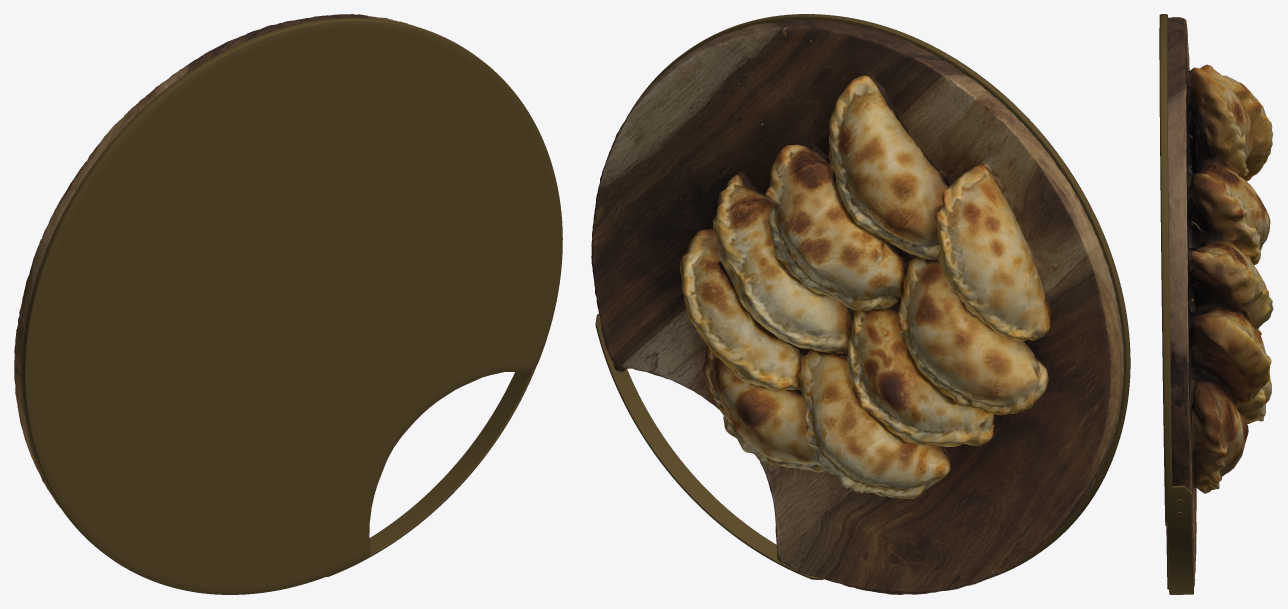
Rendered from hhm_empanadas_vertical.glb.
The picture shows the model from 3 angles, left to right: view 1: azimuth 30°, elevation 25°; view 2: azimuth 150°, elevation 25°; view 3: azimuth 270°, elevation 25°; orthographic projection. The views are drawn at different scales.
Visible parts, largest first — view 1: Base_primitive0, Comida; view 2: Comida, Base_primitive0; view 3: Comida, Base_primitive0.
Part boxes in pixels (<box>): Base_primitive0: <box>21,18,562,594</box>; Comida: <box>14,14,413,506</box>; Comida: <box>591,19,1123,594</box>; Base_primitive0: <box>595,14,1130,579</box>; Comida: <box>1167,17,1273,586</box>; Base_primitive0: <box>1159,14,1193,594</box>.
Size of the model in its own units: 0.3638 by 0.3638 by 0.0717.
Materials: 3 (1 with a texture image).
